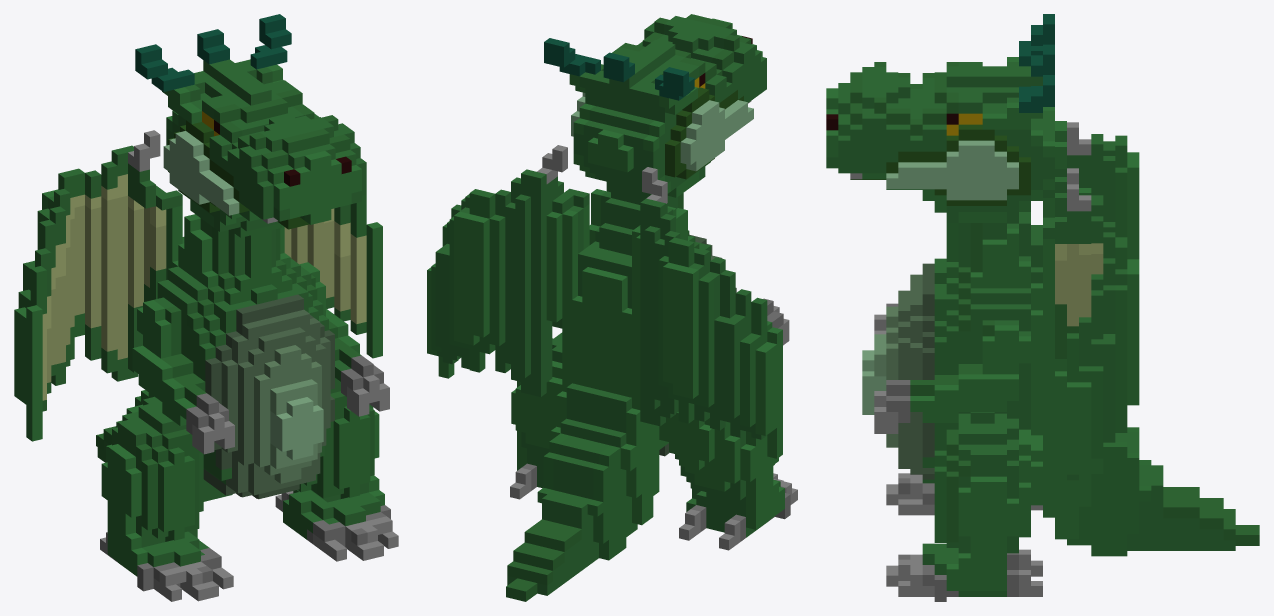
File: Dragon.obj
3 renders of one model, left to right at view 1: azimuth 30°, elevation 25°; view 2: azimuth 150°, elevation 25°; view 3: azimuth 270°, elevation 25°, orthographic. The views are drawn at different scales.
Size of the model in its own units: 3.4 by 4.5 by 3.6.
Materials: 1 (1 with a texture image).
